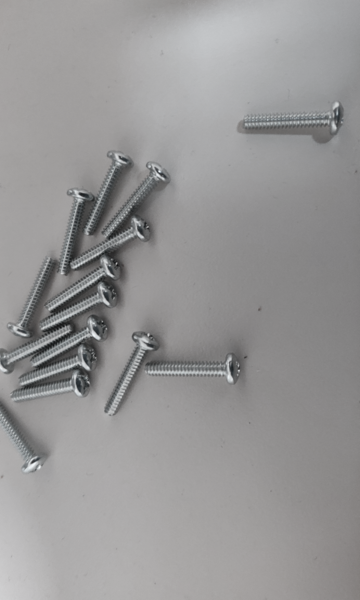longscrew: (100, 161, 172, 238), (80, 152, 131, 239), (104, 333, 156, 417), (5, 253, 57, 334), (30, 316, 109, 368), (71, 217, 146, 271), (47, 256, 121, 310), (38, 284, 121, 332), (52, 185, 92, 277), (142, 355, 246, 389), (0, 324, 72, 372), (0, 397, 42, 475), (243, 102, 345, 134), (17, 347, 97, 385), (10, 374, 91, 410)
